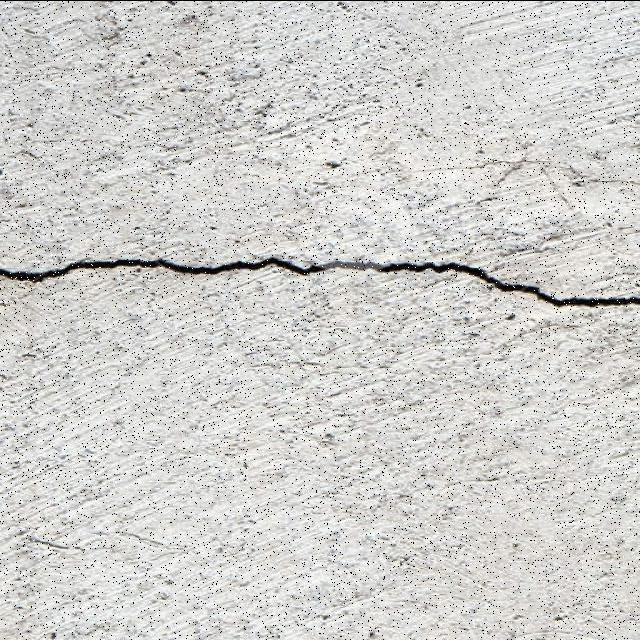Crack: (0, 254, 639, 308)
